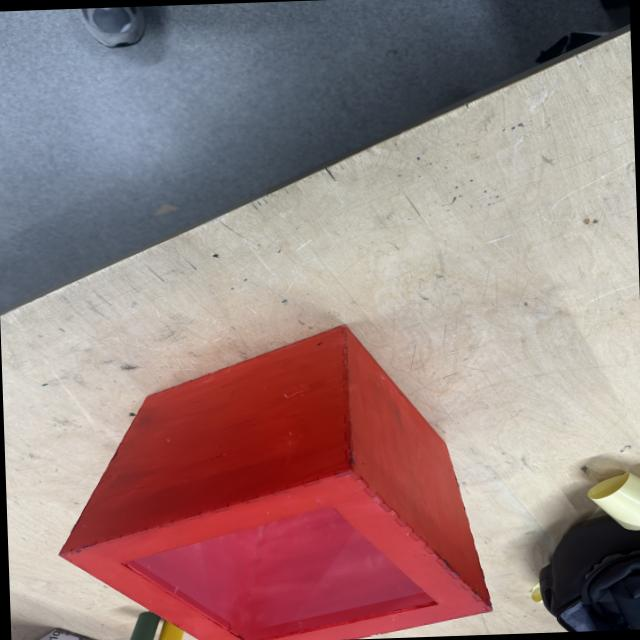red_bin: (47, 318, 494, 640)
